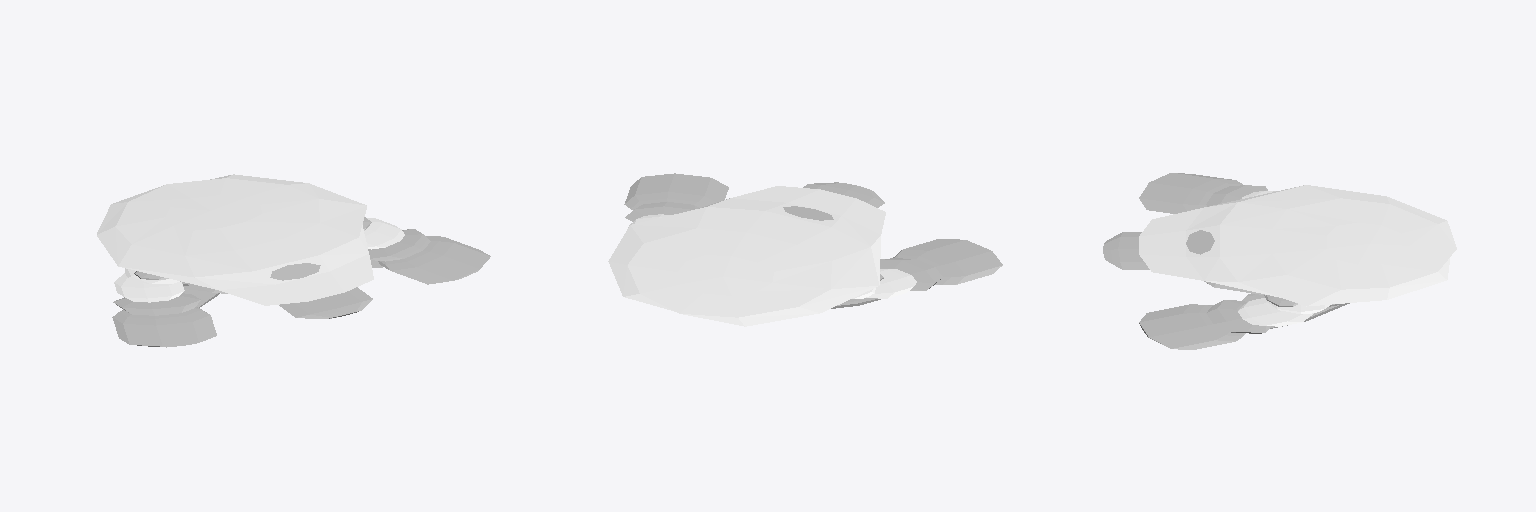
The model's file is FakerioPancake.obj.
3 views of the same model, side by side, from view 1: azimuth 30°, elevation 25°; view 2: azimuth 150°, elevation 25°; view 3: azimuth 270°, elevation 25° (orthographic).
Visible parts, largest first — view 1: Mesh; view 2: Mesh; view 3: Mesh.
Part boxes in pixels (bbox=[...]): Mesh: bbox=[97, 174, 490, 347]; Mesh: bbox=[608, 173, 1002, 326]; Mesh: bbox=[1103, 173, 1456, 349].
Bounding box in the file's own units: 1.33 × 0.1044 × 1.13.